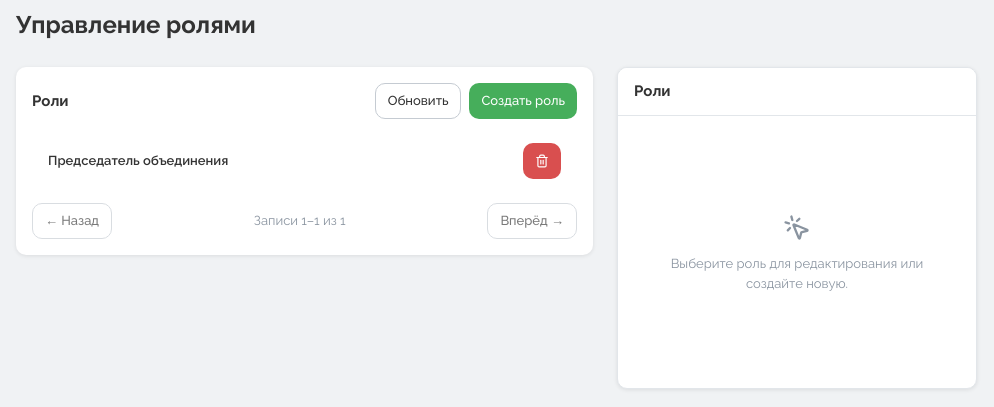
Test: RolesPage behavior › keeps role edit actions available for system admins
The image size is (994, 407).
Step 1. Click the list item with test id "role-item-role-chair" → (138, 161), box [32,131,577,191]
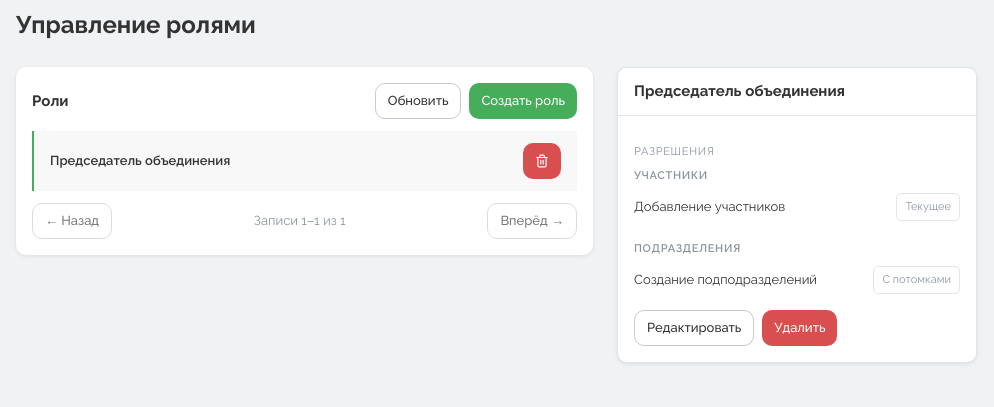
Now the button "Редактировать" is shown, box [634,310,754,346]
